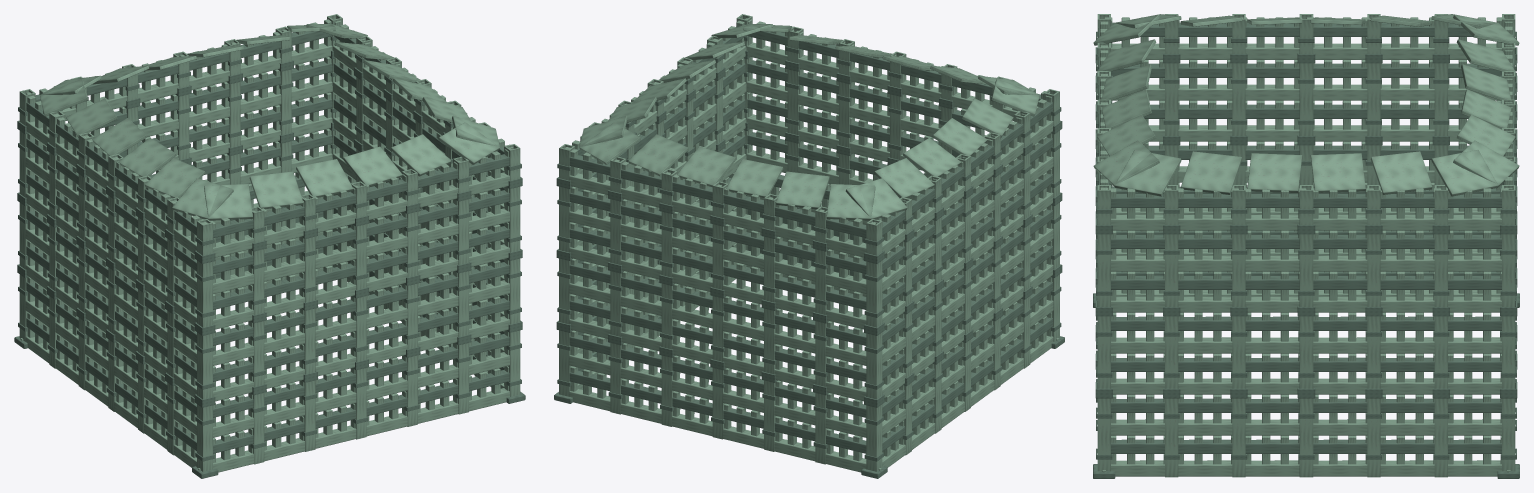
3 renders of one model, left to right at view 1: azimuth 30°, elevation 25°; view 2: azimuth 150°, elevation 25°; view 3: azimuth 270°, elevation 25°, orthographic. The views are drawn at different scales.
Visible parts, largest first — view 1: Crown alloy petal 0-1, Crown alloy petal 0-2, Crown alloy petal 0-3, Crown alloy petal 0-4, Crown alloy petal 3-4, Crown alloy petal 0-0, Crown alloy petal 3-3, Crown alloy petal 3-5, Crown alloy petal 0-5, Crown alloy petal 3-2, Crown alloy petal 3-1, Tier 0 side 0 post 0 (+57 smaller); view 2: Crown alloy petal 2-4, Crown alloy petal 2-3, Crown alloy petal 2-2, Crown alloy petal 2-1, Crown alloy petal 3-1, Crown alloy petal 2-5, Crown alloy petal 3-2, Crown alloy petal 3-0, Crown alloy petal 2-0, Crown alloy petal 3-3, Crown alloy petal 3-4, Tier 0 side 3 post 0 (+69 smaller); view 3: Crown alloy petal 1-1, Crown alloy petal 1-4, Crown alloy petal 1-3, Crown alloy petal 1-2, Crown alloy petal 1-5, Crown alloy petal 1-0, Crown alloy petal 0-5, Crown alloy petal 2-0, Crown alloy petal 0-4, Crown alloy petal 2-1, Crown alloy petal 2-2, Crown alloy petal 0-3 (+153 smaller).
Part boxes in pixels (<box>): Crown alloy petal 0-1: <box>249,171,303,209</box>; Crown alloy petal 0-2: <box>296,159,353,197</box>; Crown alloy petal 0-3: <box>343,146,402,186</box>; Crown alloy petal 0-4: <box>390,134,451,176</box>; Crown alloy petal 3-4: <box>145,158,205,198</box>; Crown alloy petal 0-0: <box>204,184,252,220</box>; Crown alloy petal 3-3: <box>118,138,176,177</box>; Crown alloy petal 3-5: <box>172,178,233,219</box>; Crown alloy petal 0-5: <box>438,122,499,164</box>; Crown alloy petal 3-2: <box>92,118,146,156</box>; Crown alloy petal 3-1: <box>66,98,117,137</box>; Tier 0 side 0 post 0: <box>197,404,212,471</box>; Crown alloy petal 2-4: <box>776,171,829,209</box>; Crown alloy petal 2-3: <box>726,159,783,198</box>; Crown alloy petal 2-2: <box>677,146,736,187</box>; Crown alloy petal 2-1: <box>628,134,688,176</box>; Crown alloy petal 3-1: <box>874,158,934,197</box>; Crown alloy petal 2-5: <box>826,184,875,220</box>; Crown alloy petal 3-2: <box>903,138,961,176</box>; Crown alloy petal 3-0: <box>845,178,907,219</box>; Crown alloy petal 2-0: <box>579,122,640,164</box>; Crown alloy petal 3-3: <box>932,118,987,155</box>; Crown alloy petal 3-4: <box>962,98,1013,137</box>; Tier 0 side 3 post 0: <box>866,404,882,471</box>; Crown alloy petal 1-1: <box>1180,151,1242,194</box>; Crown alloy petal 1-4: <box>1370,151,1432,194</box>; Crown alloy petal 1-3: <box>1310,153,1365,192</box>; Crown alloy petal 1-2: <box>1247,153,1302,193</box>; Crown alloy petal 1-5: <box>1431,150,1498,196</box>; Crown alloy petal 1-0: <box>1114,150,1181,196</box>; Crown alloy petal 0-5: <box>1093,140,1159,187</box>; Crown alloy petal 2-0: <box>1453,140,1519,187</box>; Crown alloy petal 0-4: <box>1097,114,1155,156</box>; Crown alloy petal 2-1: <box>1457,114,1515,156</box>; Crown alloy petal 2-2: <box>1461,89,1511,129</box>; Crown alloy petal 0-3: <box>1101,89,1151,129</box>.
Bounding box in the file's own units: 2.85 × 2.22 × 2.85.
2 materials, 2 textured.
